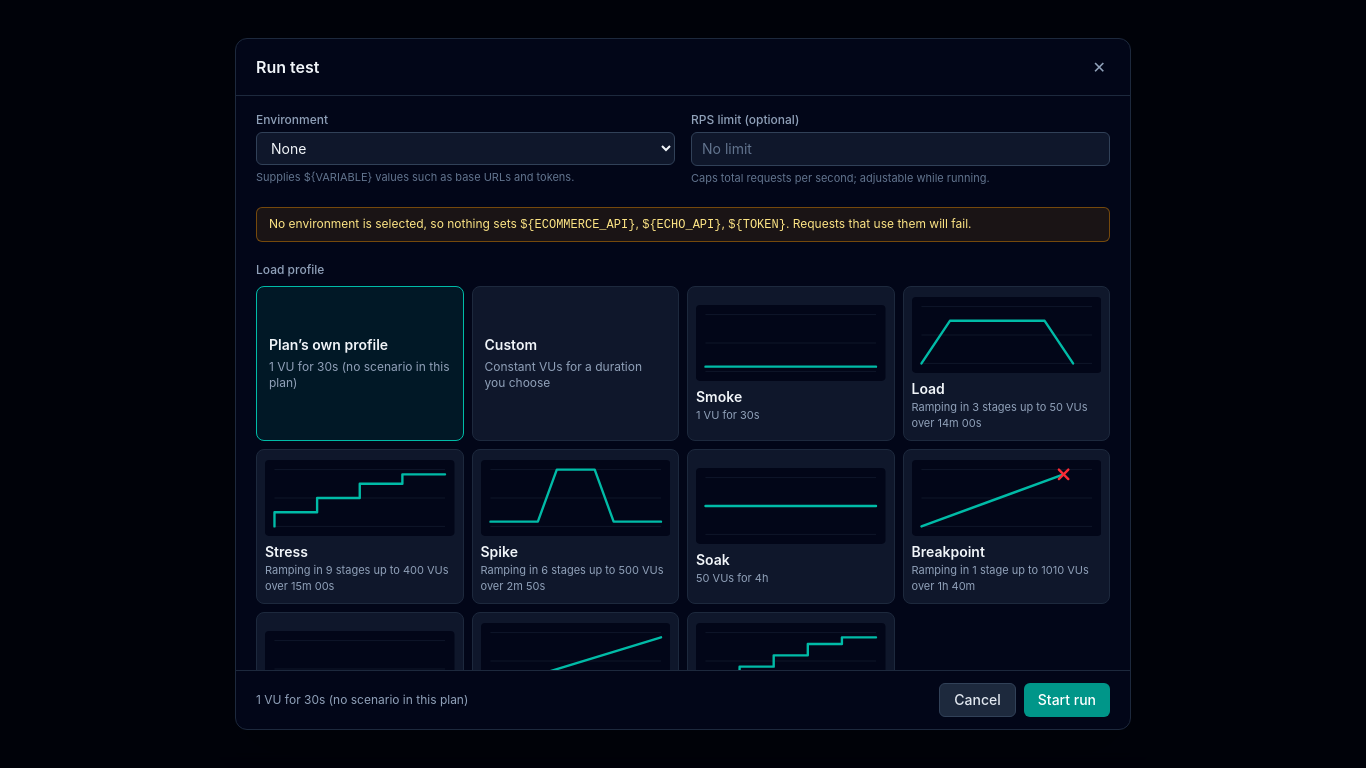
Test: RunConfigDialog › warns about variables the selected environment does not set
Expected: the message shows "No environment is selected", [269, 216, 517, 231]
Select "Test APIs (Docker)" in the dropdown labelled "Environment" at (466, 149), box [256, 132, 675, 165]
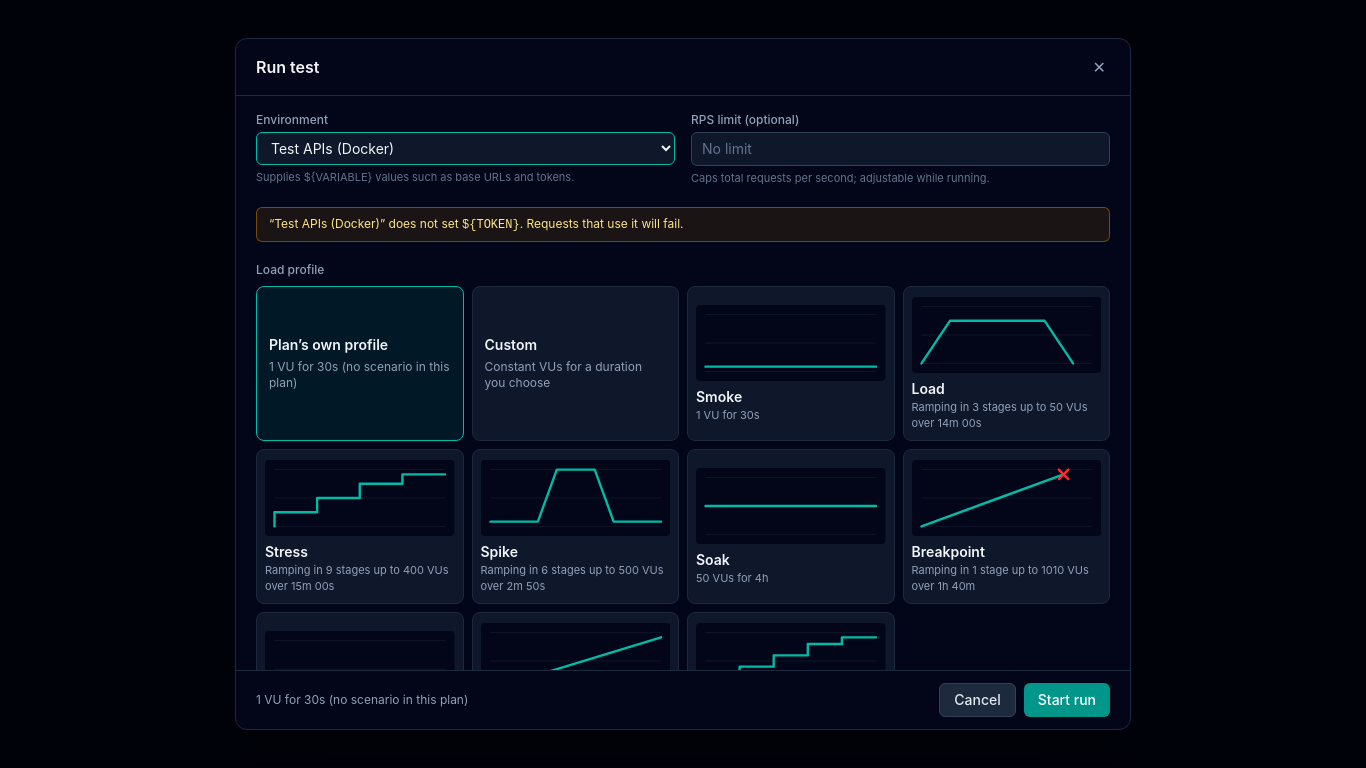
Expected: the message shows "does not set ${TOKEN}", [256, 207, 1110, 242]
Expected: the message no longer shows "ECOMMERCE_API", [256, 207, 1110, 242]
